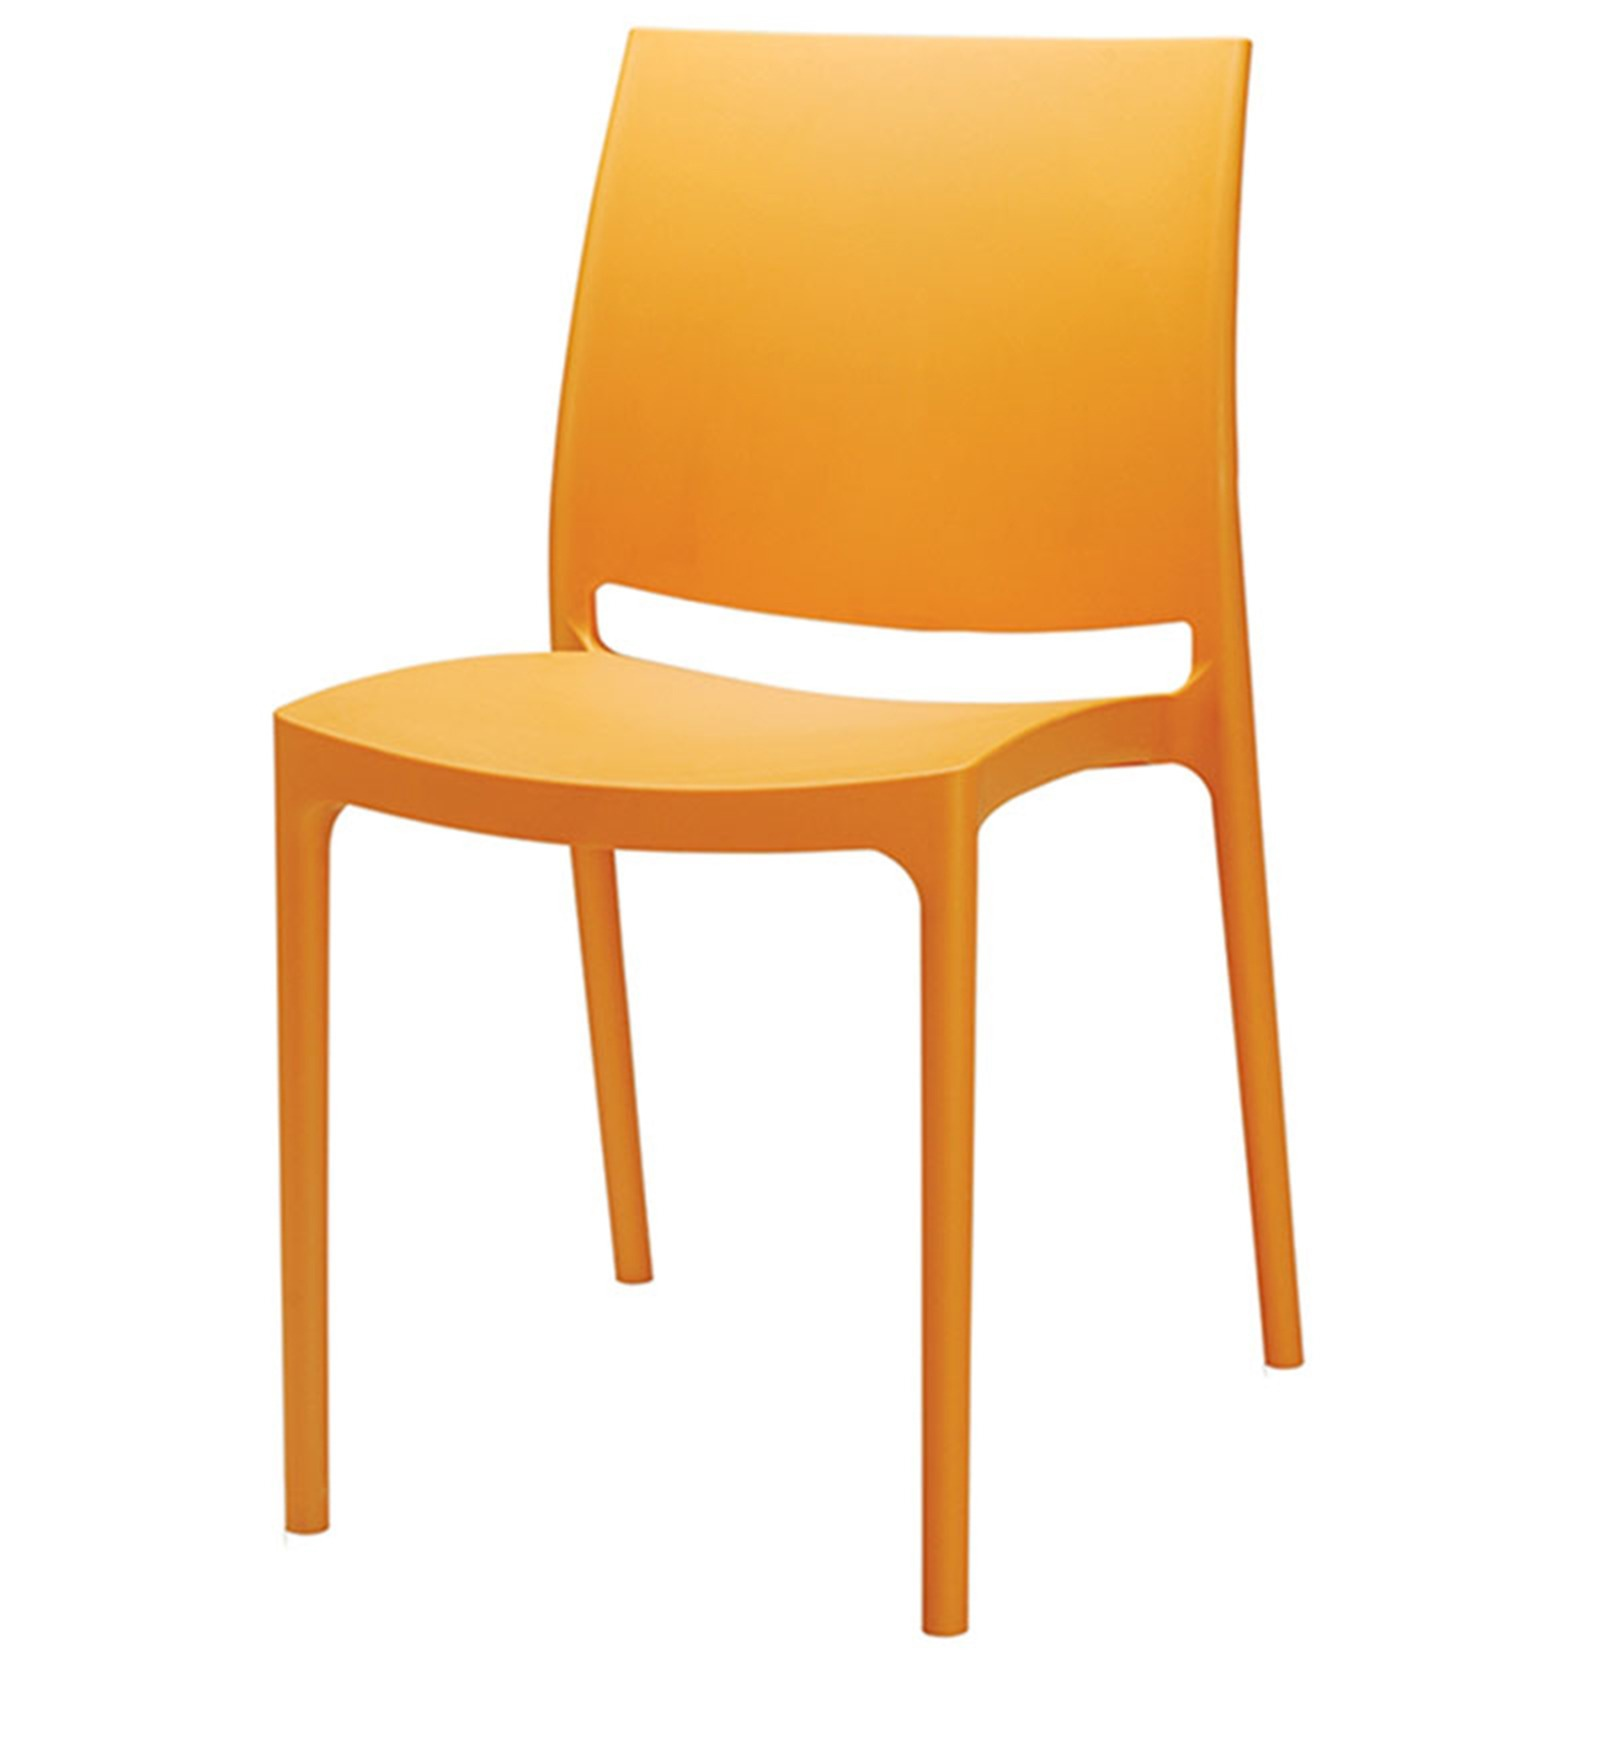Novella Chair in Orange Colour by Nilkamal: (254, 12, 1321, 1634)
